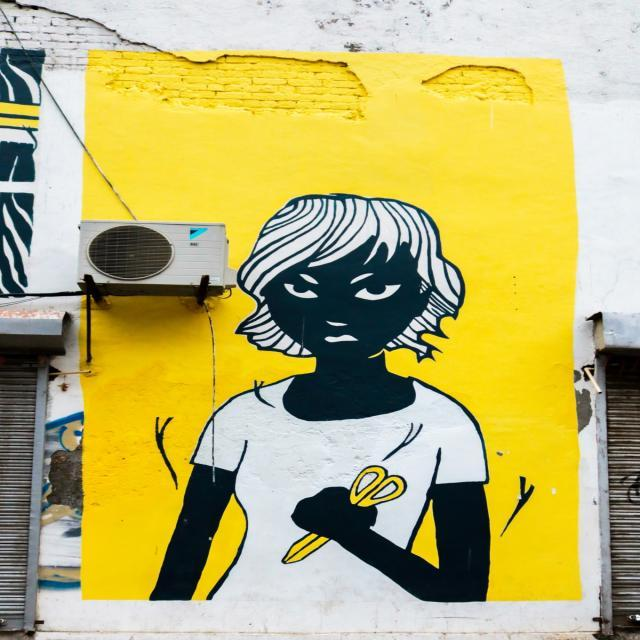-: (152, 190, 537, 603)
